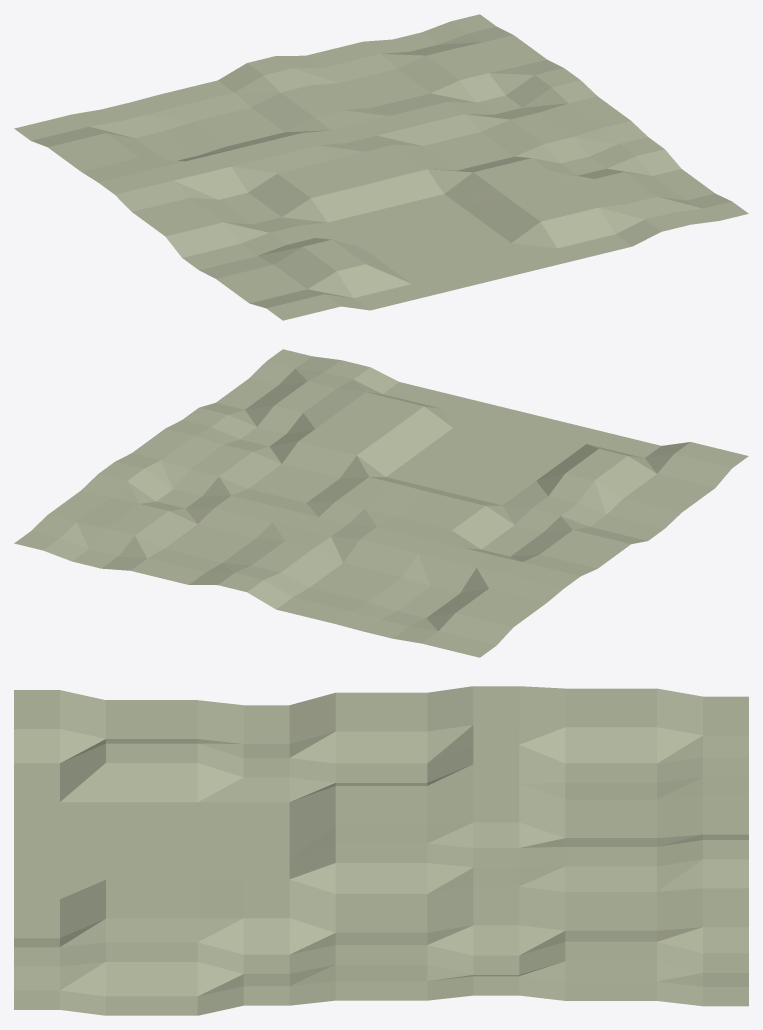
The picture shows the model from 3 angles, top to bottom: view 1: azimuth 30°, elevation 25°; view 2: azimuth 150°, elevation 25°; view 3: azimuth 270°, elevation 25°; orthographic projection. The views are drawn at different scales.
Size of the model in its own units: 32 by 0.9857 by 32.
